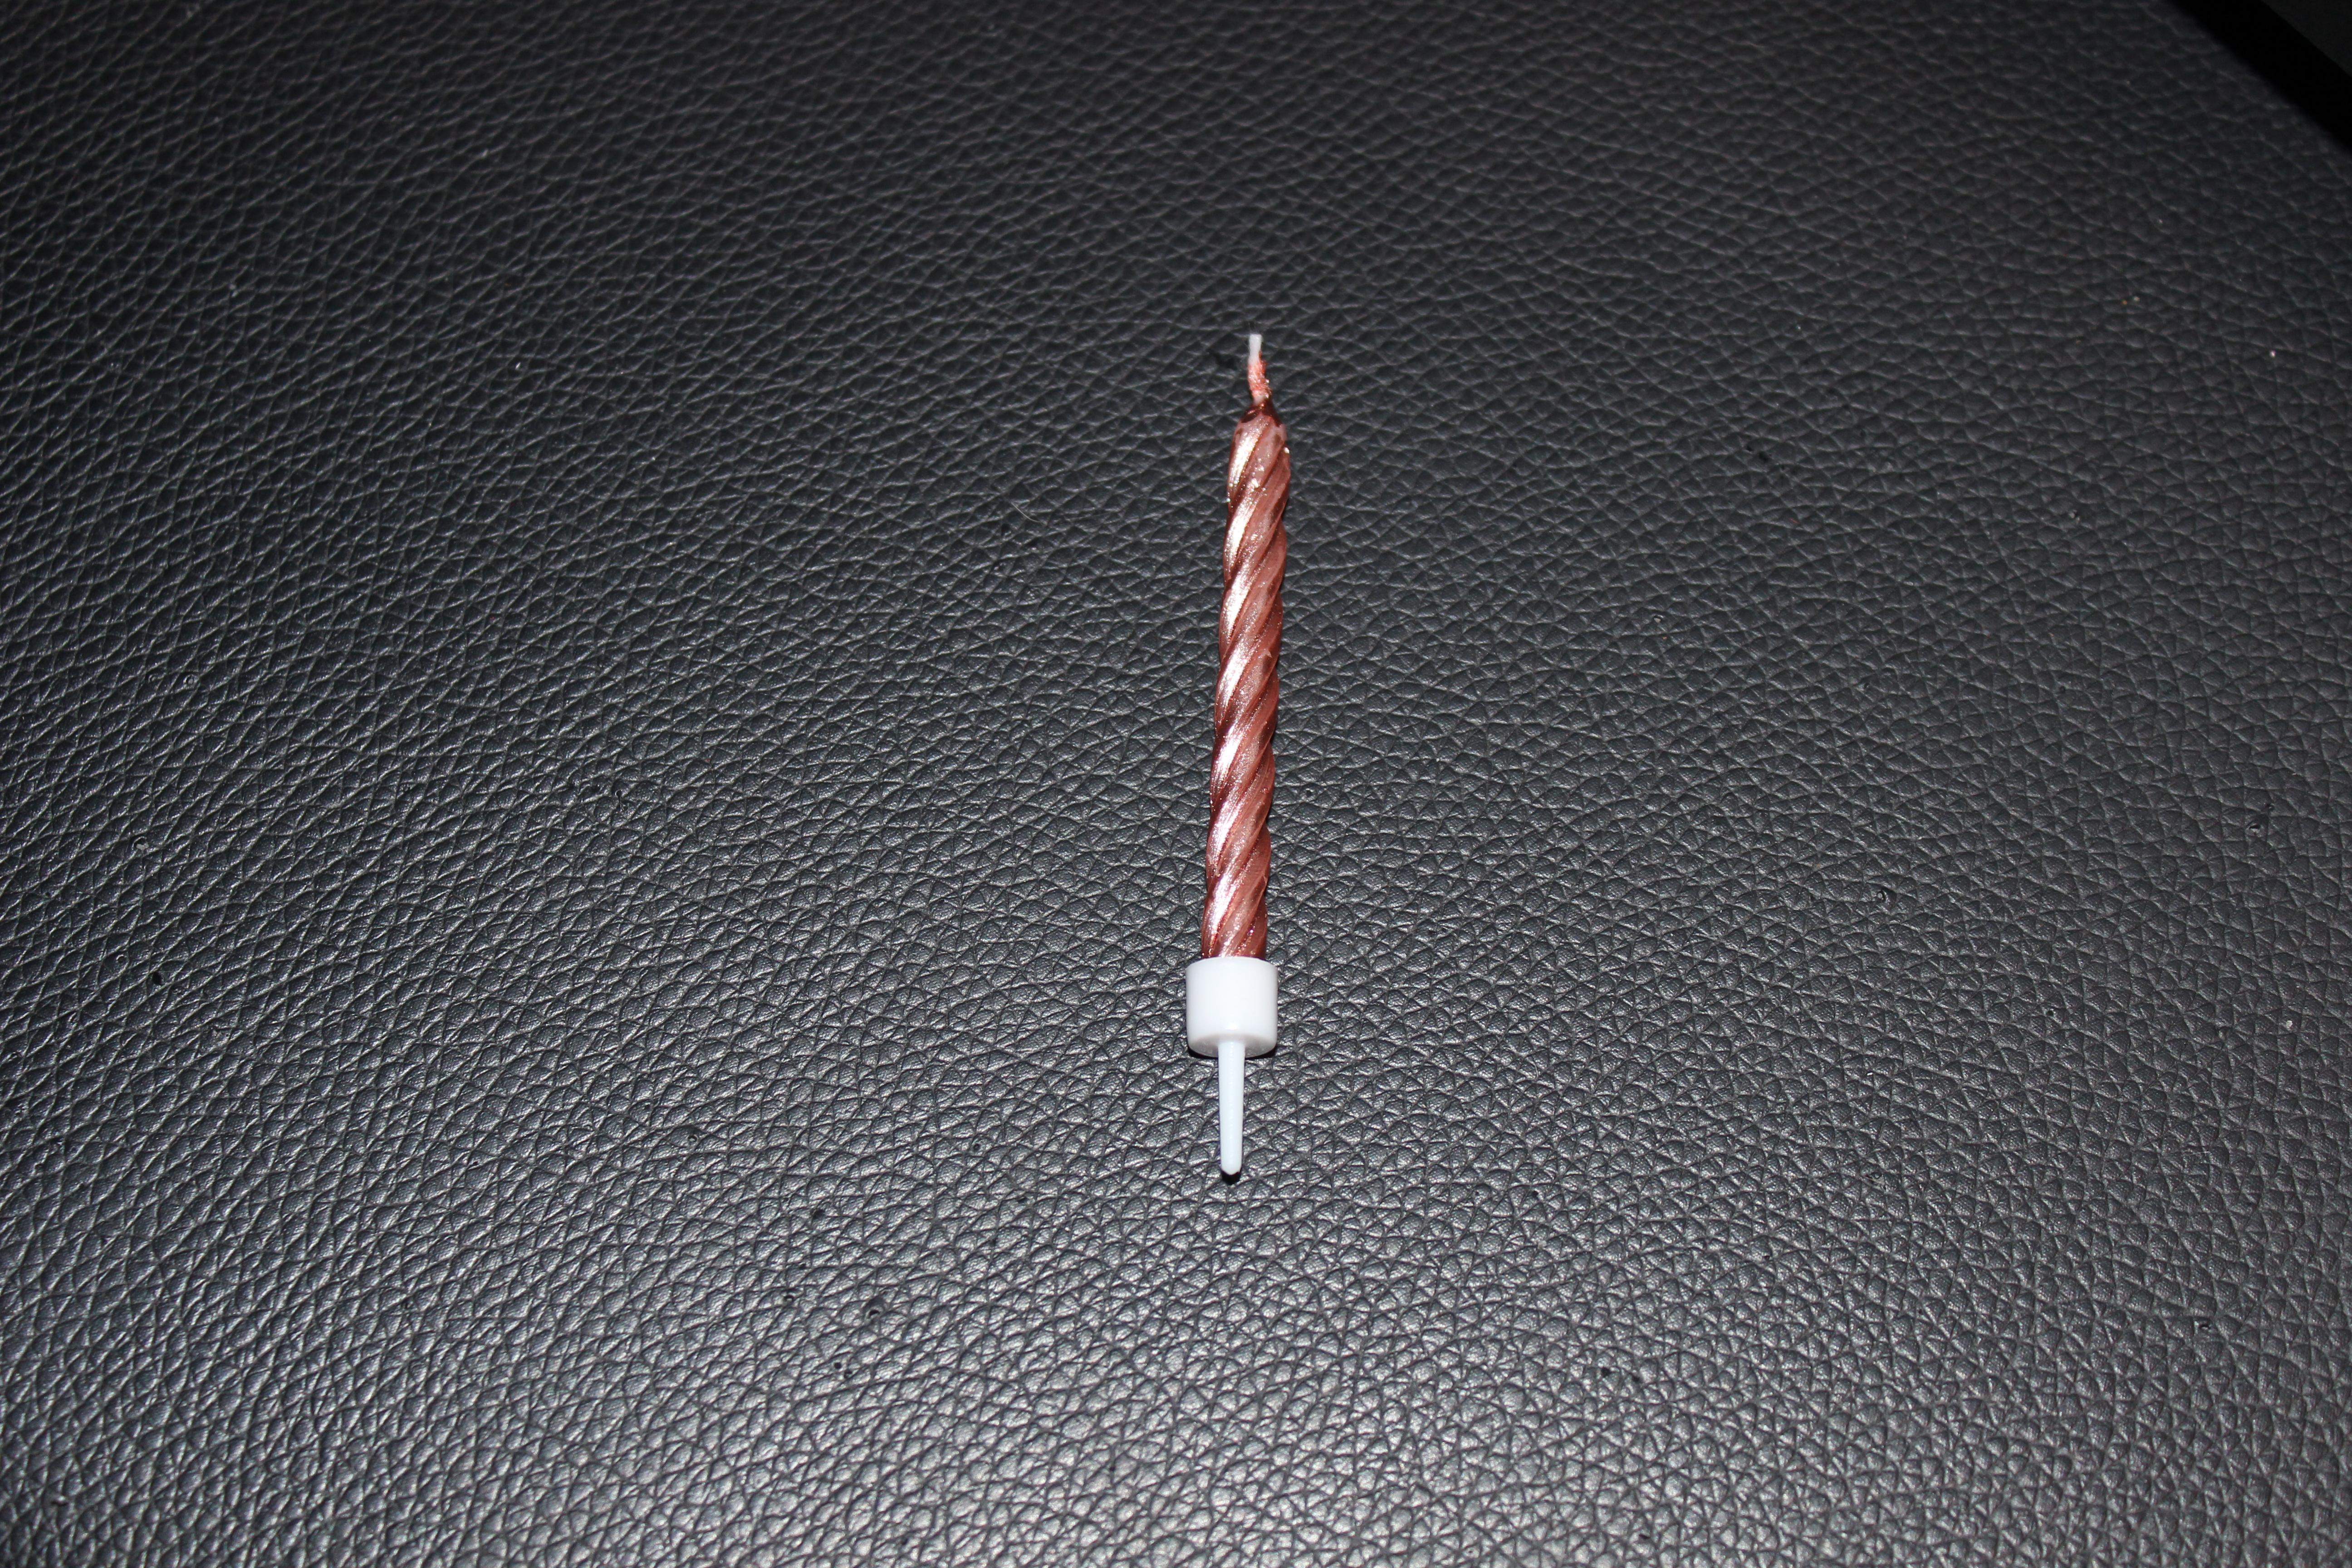pinkCandle: (1125, 317, 1362, 1215)
